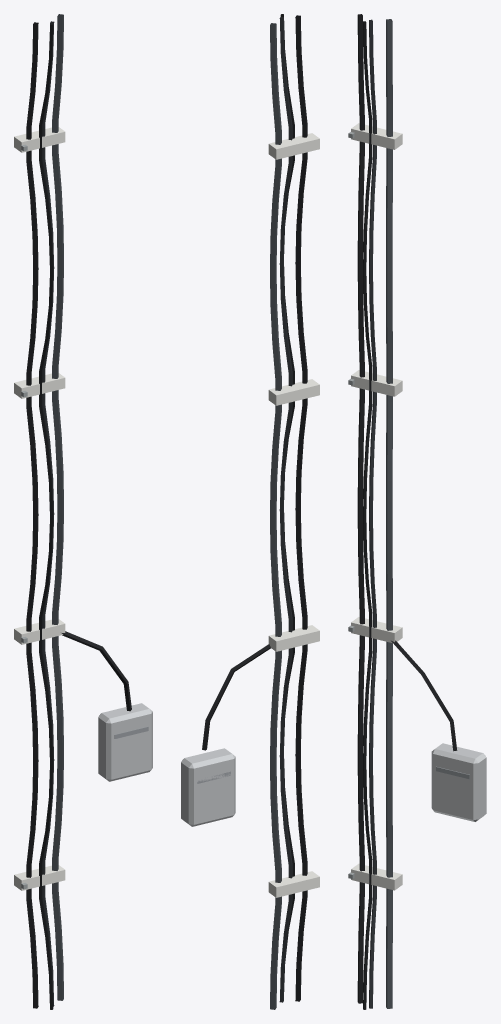
File: SC_Util_Wire_Wall_Riser.gltf
3 renders of one model, left to right at view 1: azimuth 30°, elevation 25°; view 2: azimuth 210°, elevation 25°; view 3: azimuth 330°, elevation 25°, orthographic.
Parts seen in each view (by area): view 1: SC_Util_Wire_Wall_Riser; view 2: SC_Util_Wire_Wall_Riser; view 3: SC_Util_Wire_Wall_Riser.
Boxes of the visible parts, x1,y1,x2,y2 form: SC_Util_Wire_Wall_Riser: (14, 14, 152, 1009); SC_Util_Wire_Wall_Riser: (181, 14, 319, 1009); SC_Util_Wire_Wall_Riser: (348, 14, 486, 1009).
Bounding box in the file's own units: 0.386 × 2.8 × 0.087.
1 material, 1 textured.
